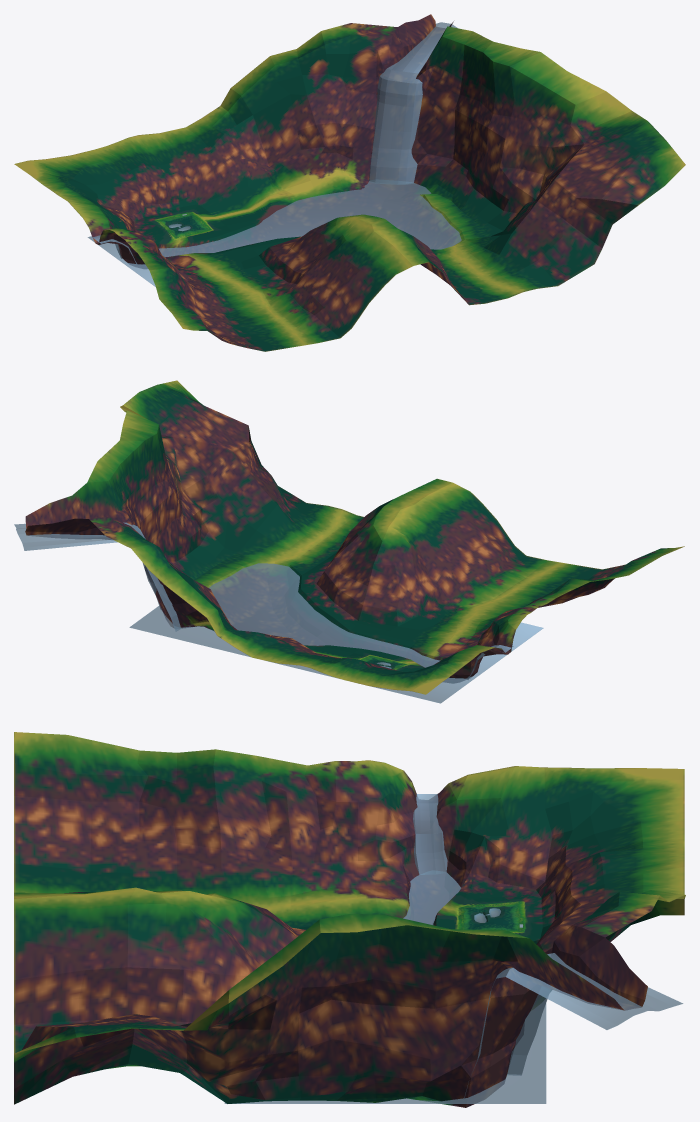
The model's file is landscape_final.fbx.
The picture shows the model from 3 angles, top to bottom: view 1: azimuth 30°, elevation 25°; view 2: azimuth 150°, elevation 25°; view 3: azimuth 270°, elevation 25°; orthographic projection. The views are drawn at different scales.
Visible parts, largest first — view 1: landscape, lake, large_waterfall; view 2: landscape, lake, large_waterfall; view 3: landscape, lake, large_waterfall, small_waterfall.
Part boxes in pixels (x1,y1,x2,y2): landscape: (14,14,685,351); lake: (87,180,461,286); large_waterfall: (369,22,457,184); landscape: (25,380,684,694); lake: (129,563,543,703); large_waterfall: (14,522,180,630); landscape: (14,732,685,1107); lake: (224,871,546,1103); large_waterfall: (463,953,683,1099); small_waterfall: (413,794,447,874).
Bounding box in the file's own units: 130391 × 41573 × 95795.
